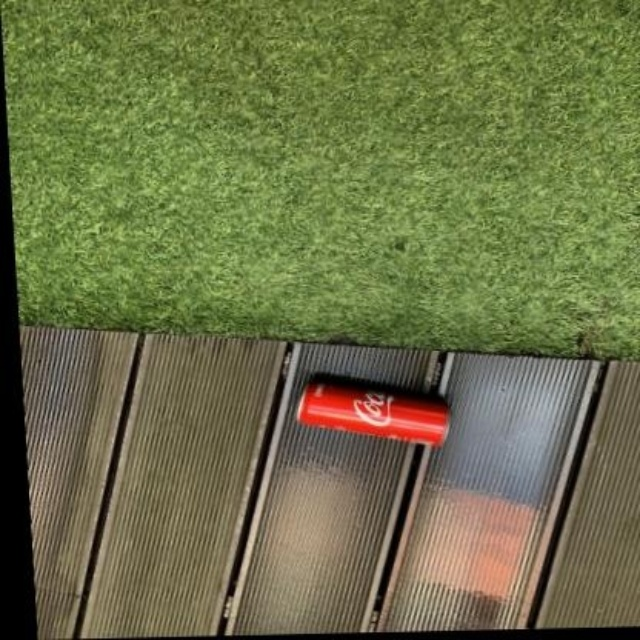trash: (297, 378, 448, 445)
